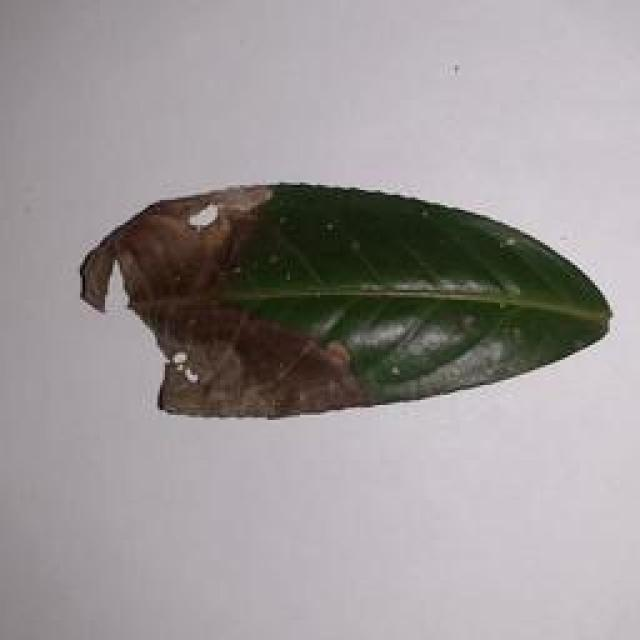Brown Blight: (56, 168, 620, 436)
